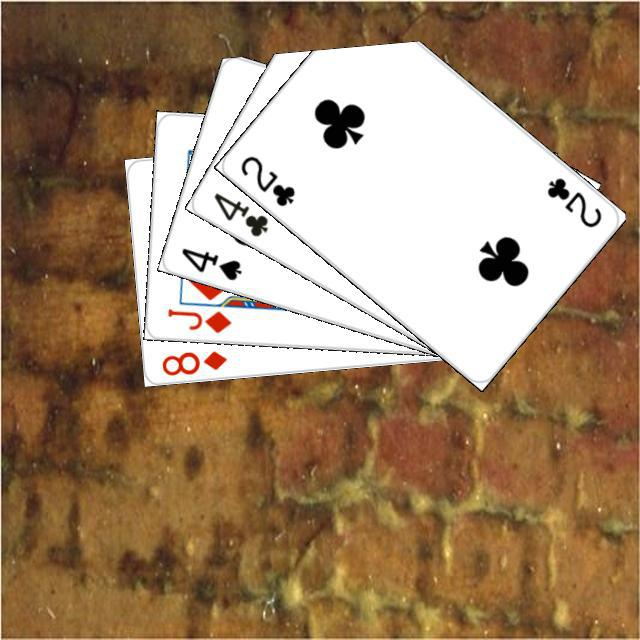2c: (235, 150, 297, 209), (542, 172, 604, 230)
4c: (208, 187, 270, 239)
4s: (176, 243, 244, 282)
8d: (157, 346, 228, 377)
Jd: (162, 303, 233, 335)
